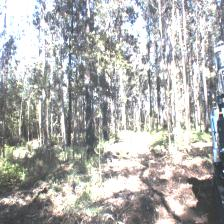trunktrack_idkeyframe: (85, 98, 95, 143)
